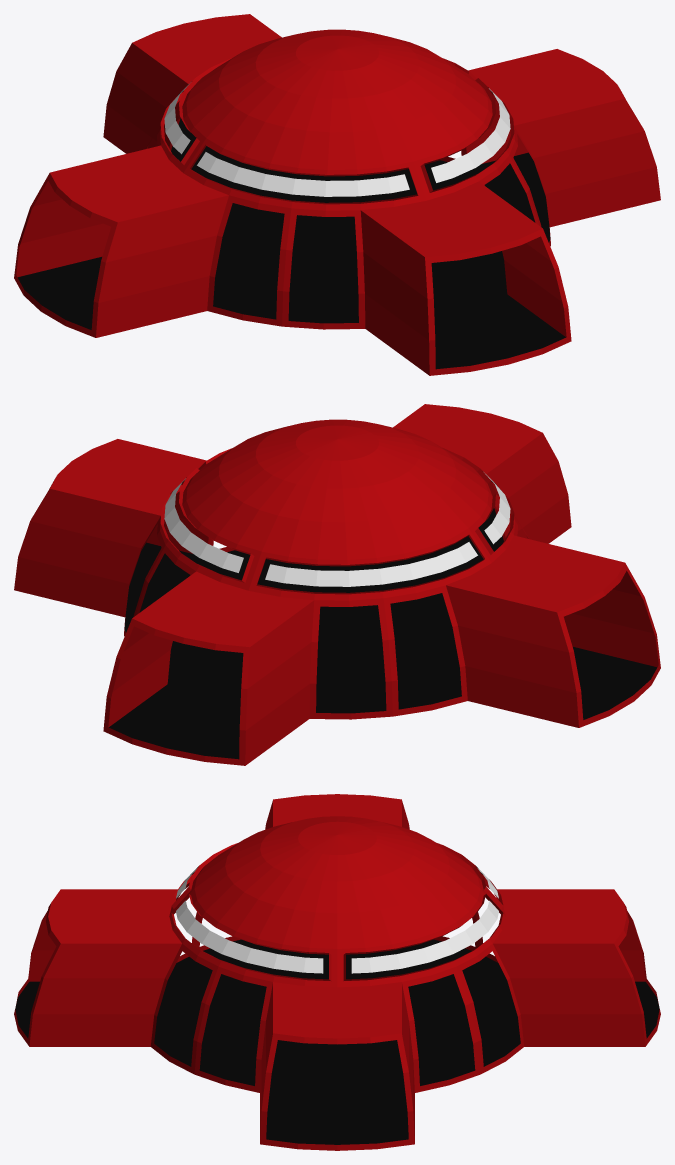
Rendered from spaceship.fbx.
3 views of the same model, one above another, from view 1: azimuth 30°, elevation 25°; view 2: azimuth 150°, elevation 25°; view 3: azimuth 270°, elevation 25° (orthographic). The views are drawn at different scales.
Parts seen in each view (by area): view 1: Sphere; view 2: Sphere; view 3: Sphere.
Part boxes in pixels (bbox=[...]): Sphere: bbox=[14, 14, 660, 375]; Sphere: bbox=[14, 404, 660, 765]; Sphere: bbox=[14, 794, 660, 1150].
Size of the model in its own units: 16 by 4.89 by 16.
